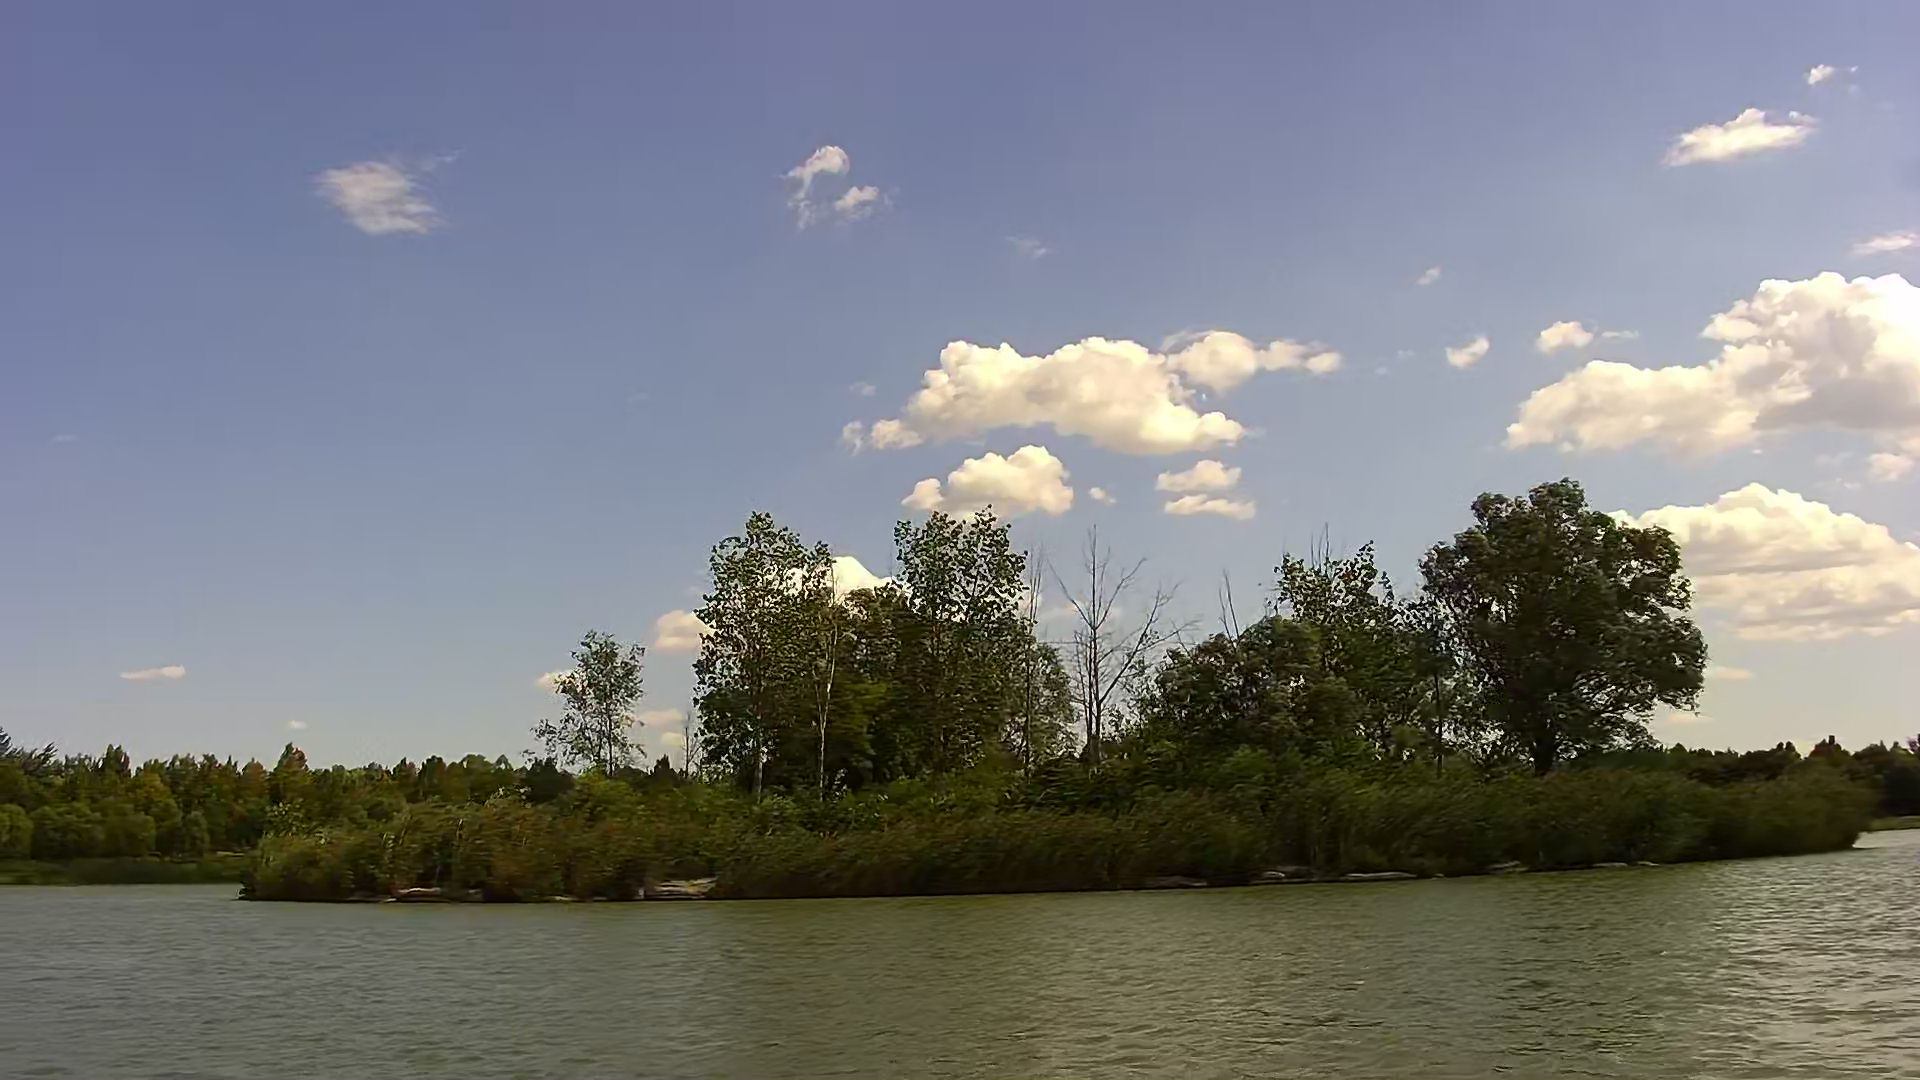rock: (644, 874, 713, 905), (396, 885, 477, 907)
